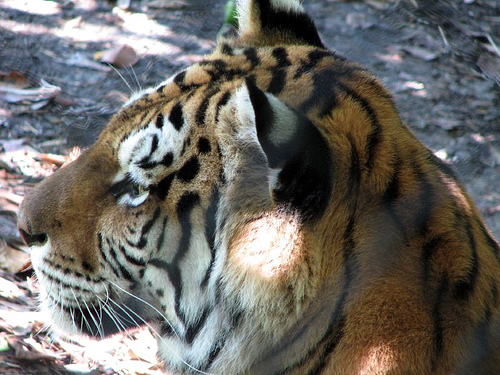Tigre: (20, 11, 489, 354)
